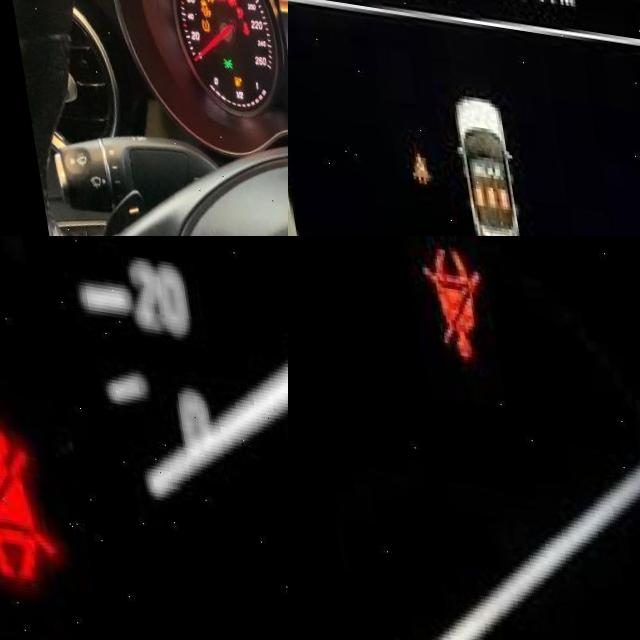Seat Belt: (413, 237, 482, 358), (0, 416, 47, 585), (398, 141, 423, 179)
